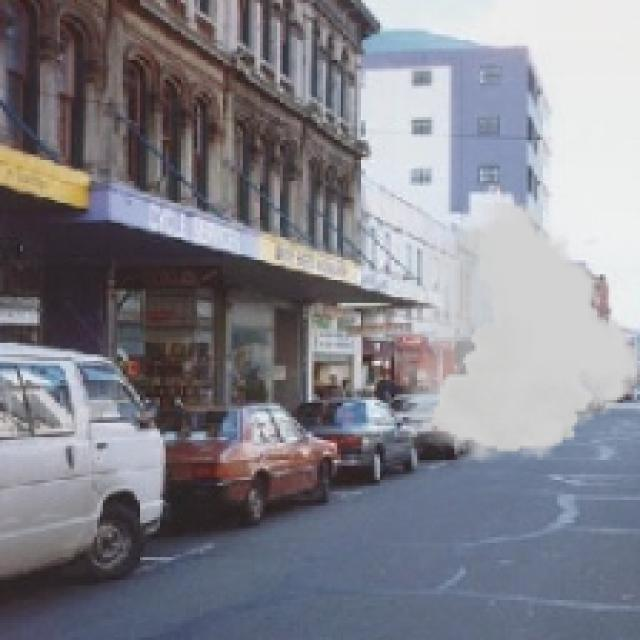smoke: (394, 203, 637, 466)
